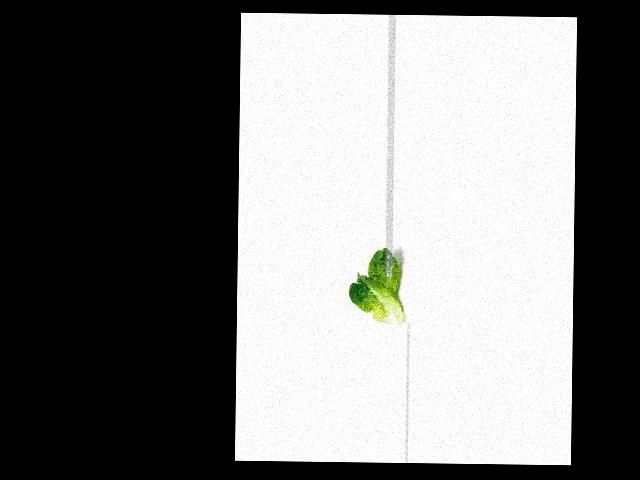lettuce: (348, 245, 402, 327)
